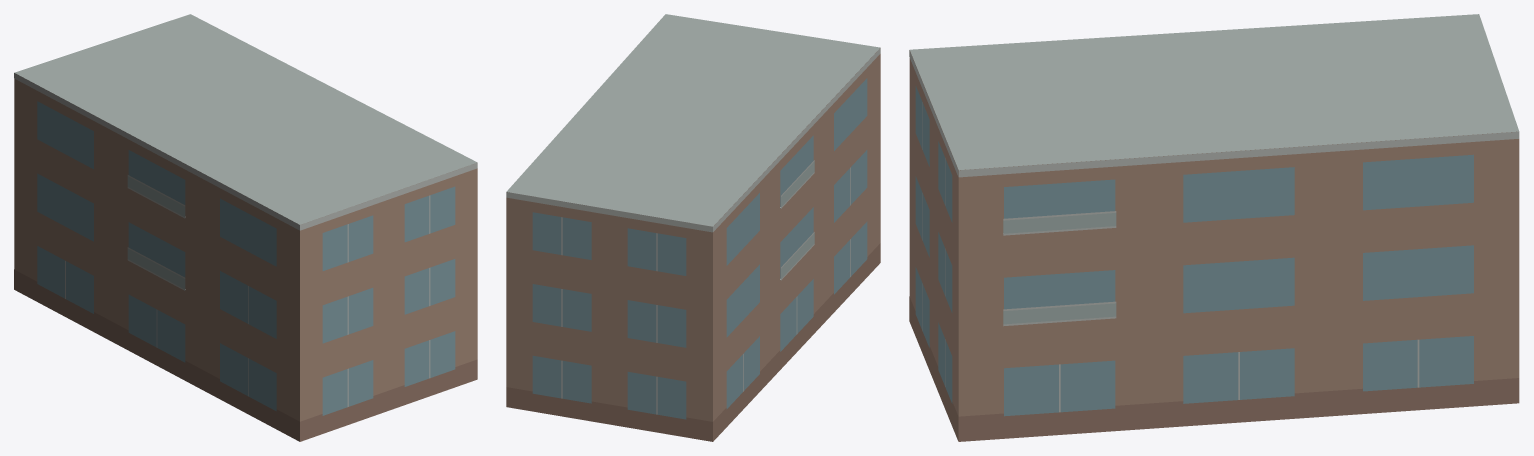
File: survey-upis-33009534.glb
The picture shows the model from 3 angles, left to right: view 1: azimuth 30°, elevation 25°; view 2: azimuth 150°, elevation 25°; view 3: azimuth 270°, elevation 25°; orthographic projection. The views are drawn at different scales.
Parts seen in each view (by area): view 1: survey-upis-33009534.tmp; view 2: survey-upis-33009534.tmp; view 3: survey-upis-33009534.tmp.
Part boxes in pixels (<box>): survey-upis-33009534.tmp: <box>14,14,477,441</box>; survey-upis-33009534.tmp: <box>506,14,880,441</box>; survey-upis-33009534.tmp: <box>909,14,1519,441</box>.
Bounding box in the file's own units: 11.29 × 9.15 × 18.63.
